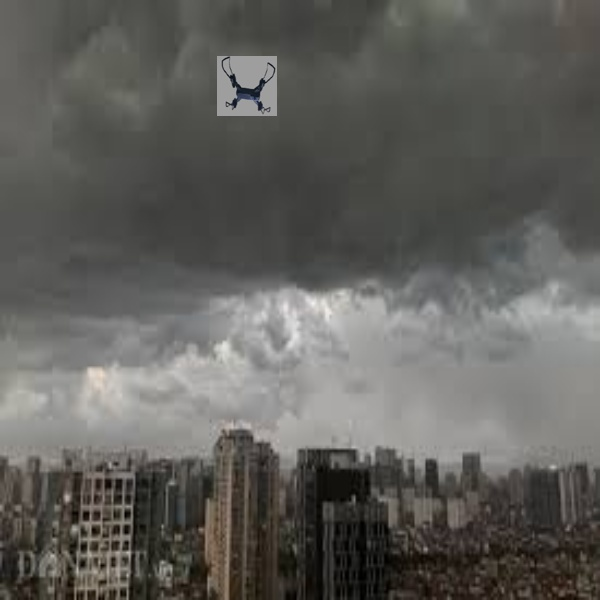drone: (217, 55, 276, 116)
